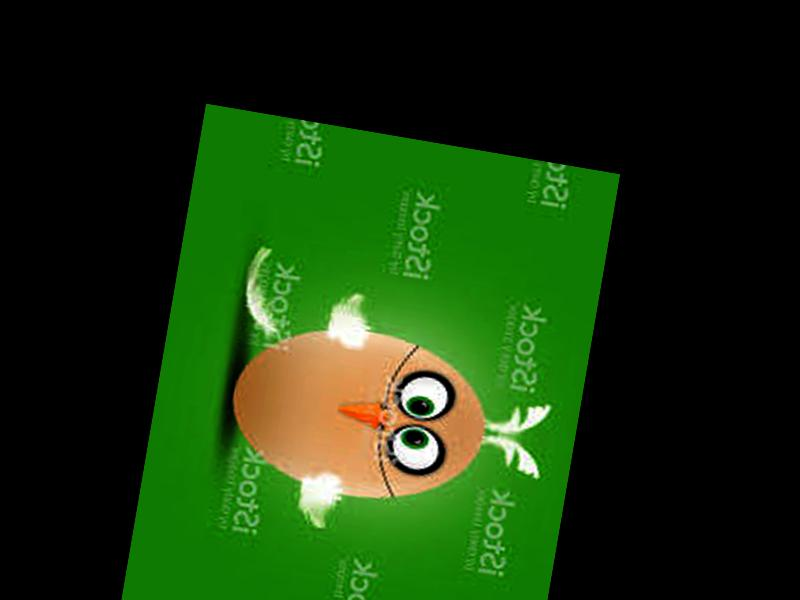Eggs: (217, 310, 498, 514)
